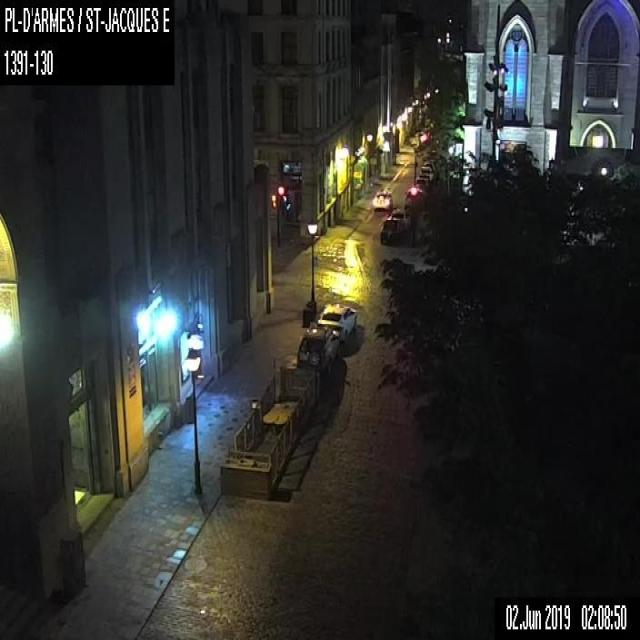vehicle: (296, 328, 338, 371), (317, 304, 356, 340), (379, 218, 398, 244), (388, 208, 409, 230), (371, 189, 392, 210), (403, 187, 422, 207), (419, 166, 433, 180)
